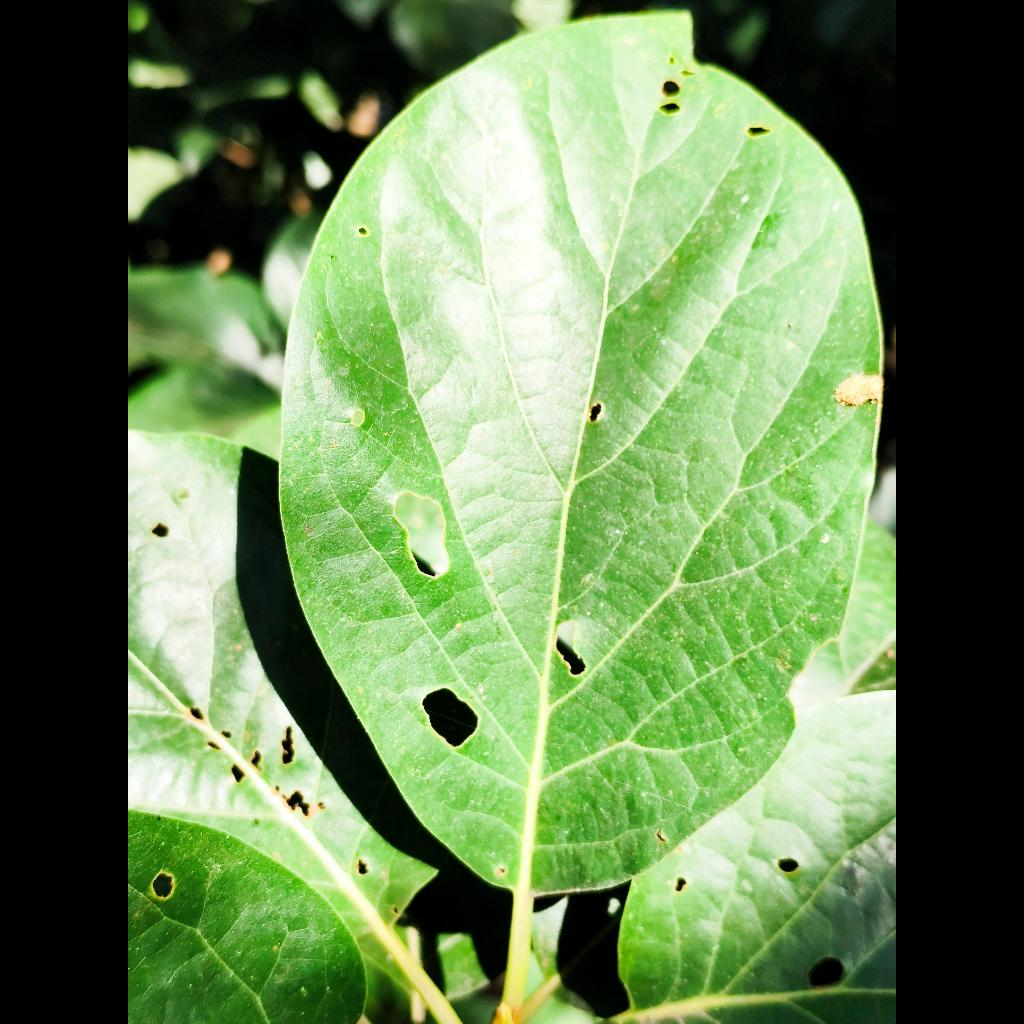Pest Infested: (281, 13, 880, 935)
